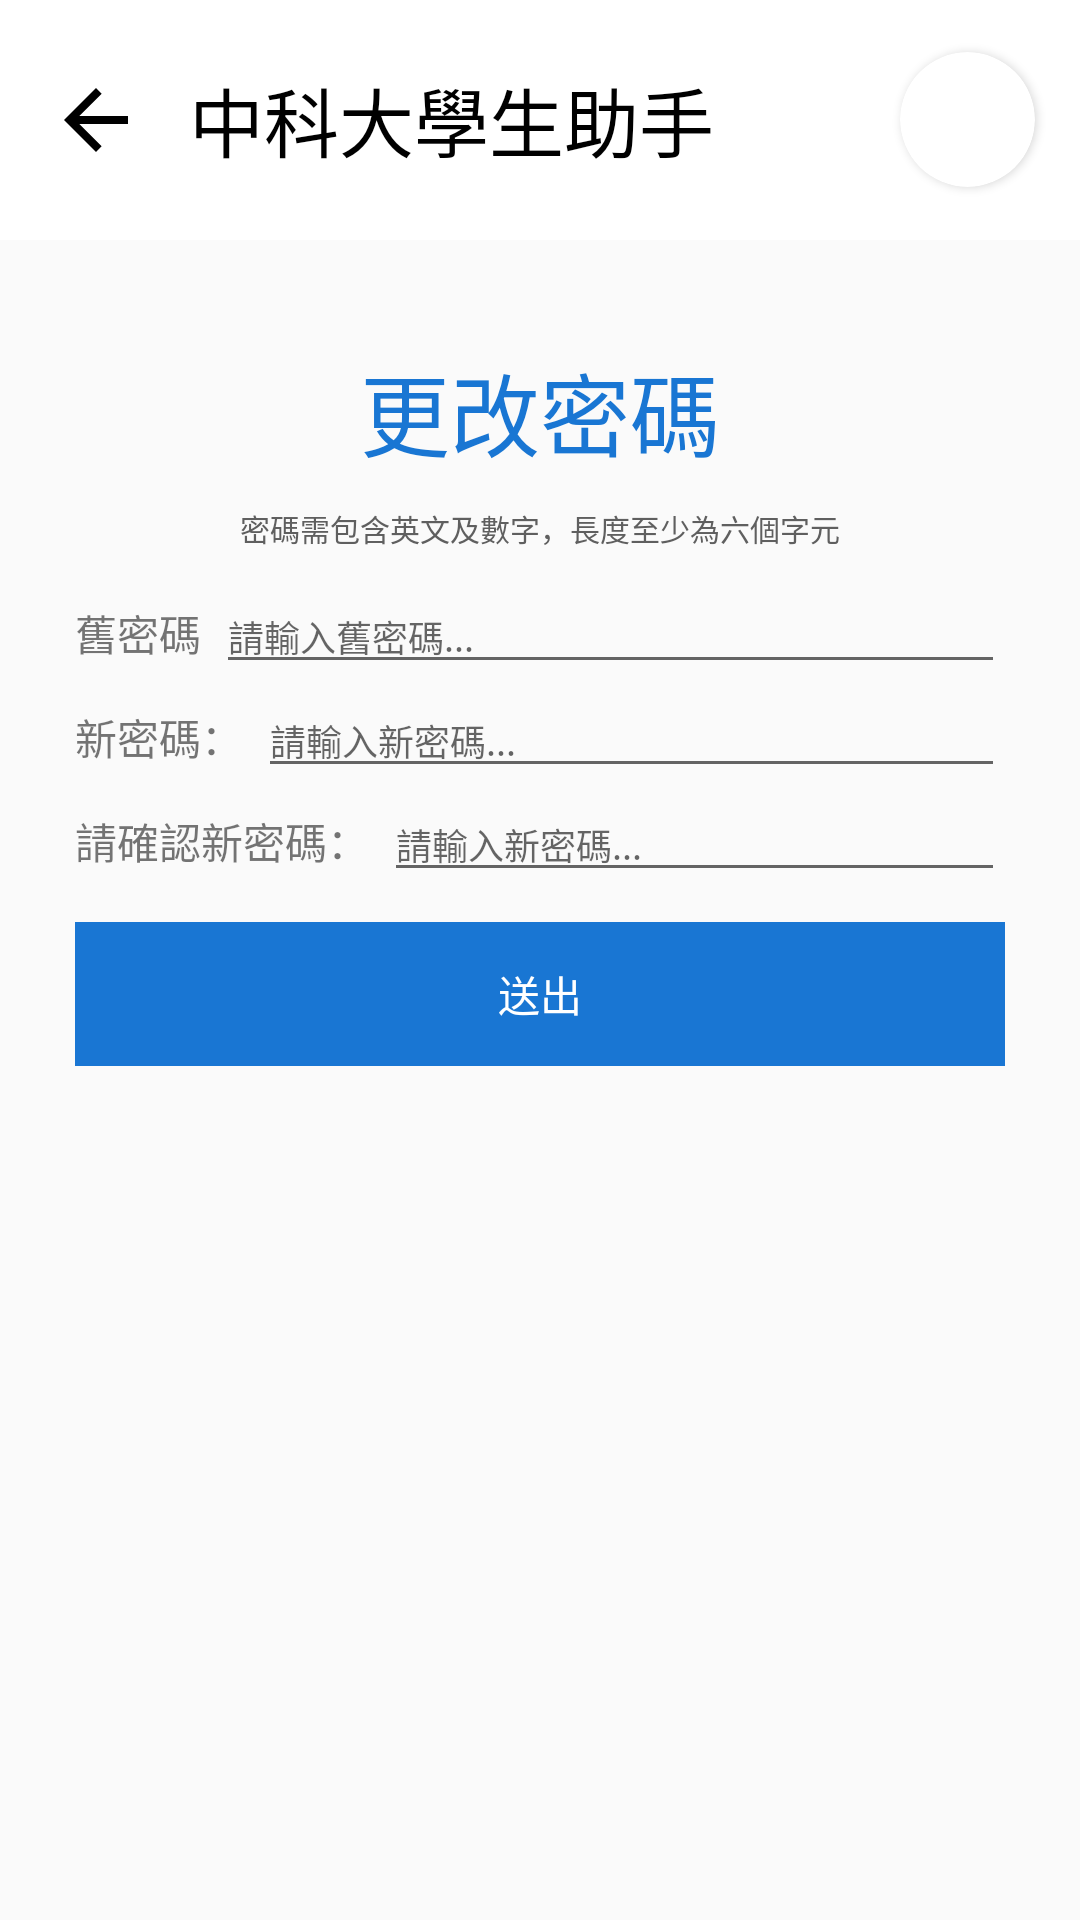

Named icons in this screenshot (1080w x 1920h) and their centers, (x,y):
back: (96,120)
